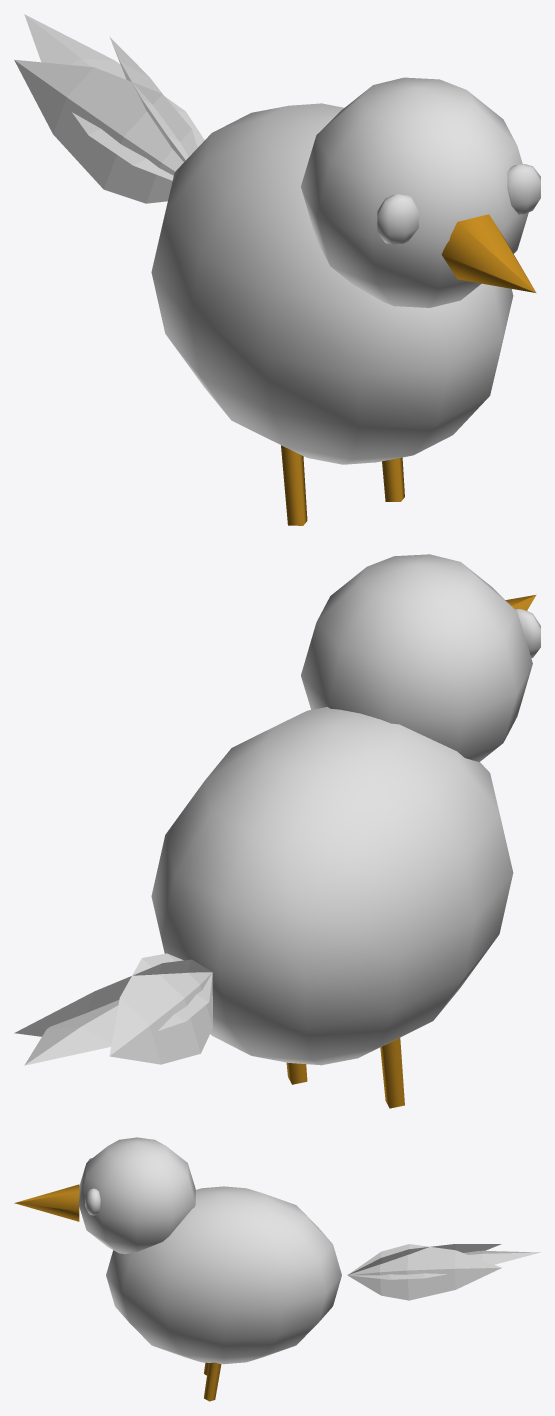
The model's file is ville_cos_fam_oiseau.glb.
The picture shows the model from 3 angles, top to bottom: view 1: azimuth 30°, elevation 25°; view 2: azimuth 150°, elevation 25°; view 3: azimuth 270°, elevation 25°; orthographic projection. The views are drawn at different scales.
Visible parts, largest first — view 1: cos_fam_oiseau; view 2: cos_fam_oiseau; view 3: cos_fam_oiseau.
Boxes of the visible parts, x1,y1,x2,y2 form: cos_fam_oiseau: (14,14,540,525); cos_fam_oiseau: (14,554,540,1108); cos_fam_oiseau: (14,1137,540,1401).
Bounding box in the file's own units: 0.234 × 0.3731 × 0.7277.
